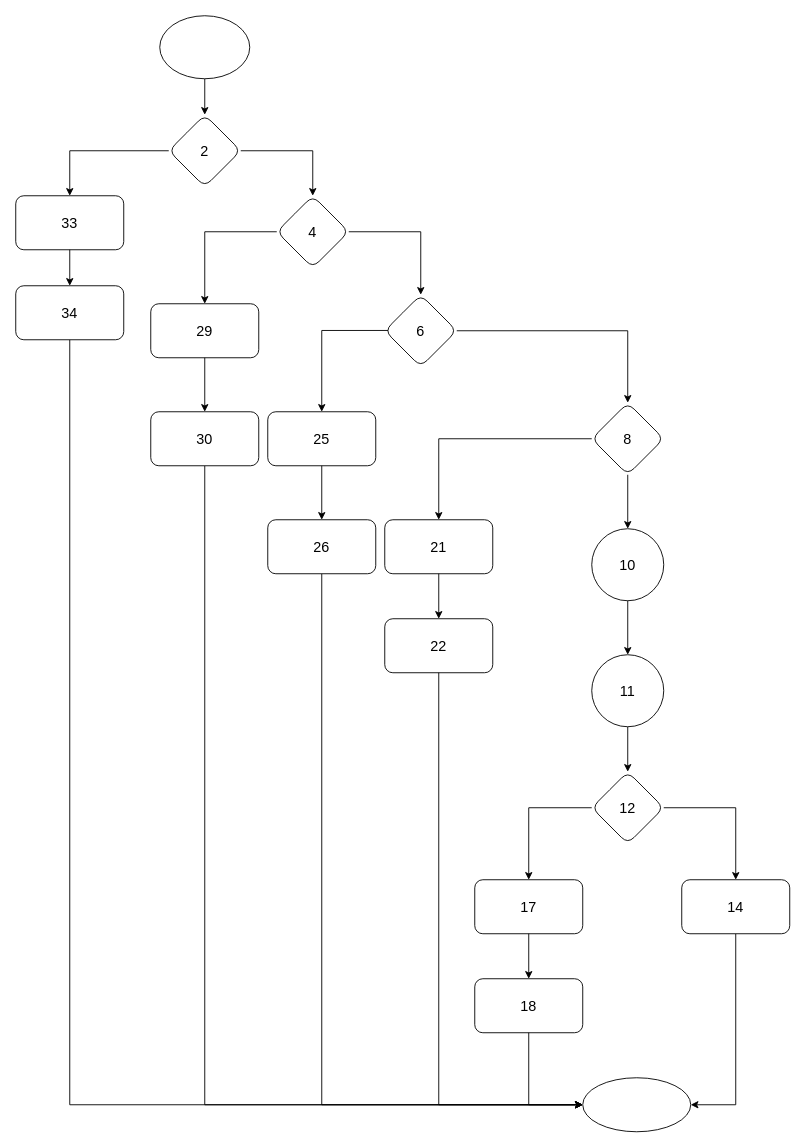
This 806x1148 diagram has some shape labels left out. The centre of each missing label's shape, as x and y in pixels:
"END" belongs at (x=636, y=1104).
"START" belongs at (x=204, y=47).
